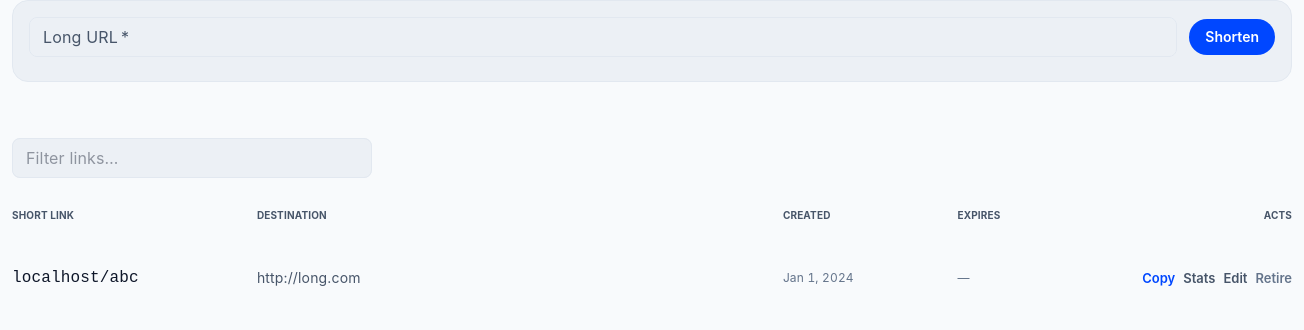
Test: DashboardPage › in-row destination correction › stands closed by default and opens only on the row edit reach
Expected: the element with test id "link-row-abc" is shown, x1=12 y1=265 x2=1292 y2=291
Expected: the element with test id "link-row-abc" shows "http://long.com", x1=257 y1=270 x2=361 y2=286
Click the button with test id "edit-abc": (1236, 278) x1=1224 y1=265 x2=1248 y2=291
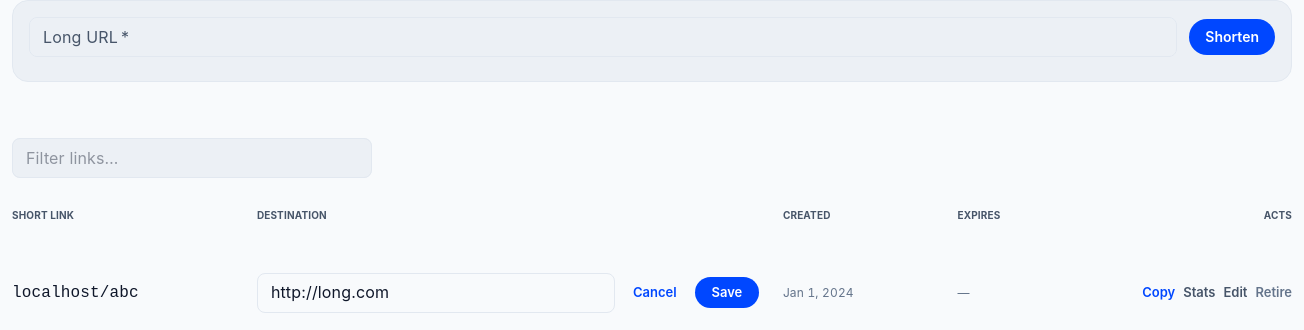
Expected: the field with test id "edit-url-input-abc" is shown, x1=257 y1=273 x2=615 y2=313
